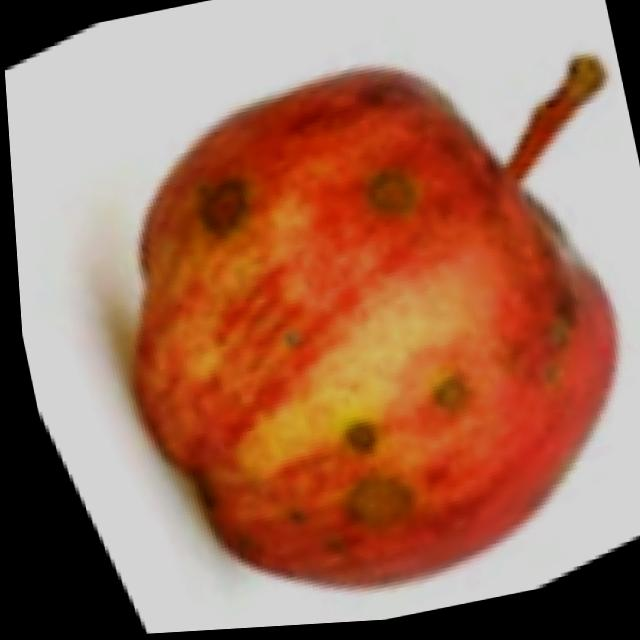organik: (12, 0, 640, 639)
